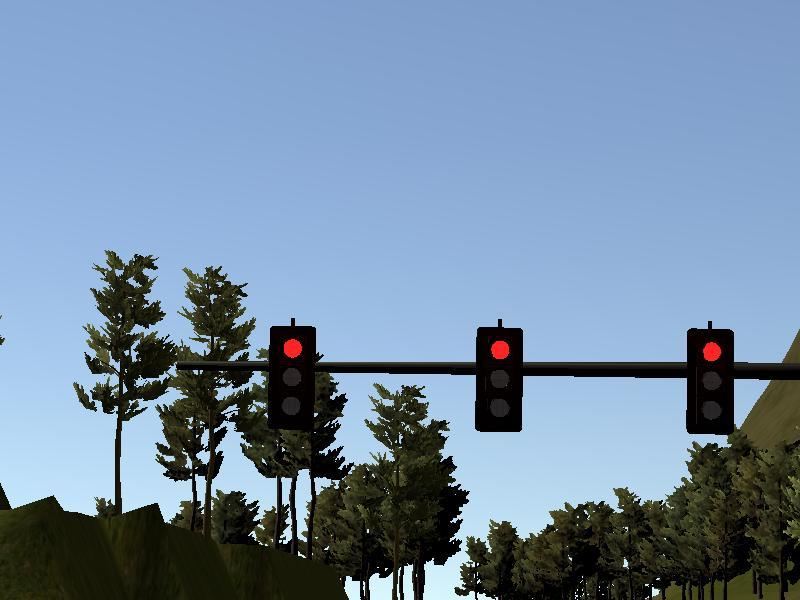Red: (688, 330, 734, 432), (475, 330, 521, 430), (271, 327, 313, 427)
